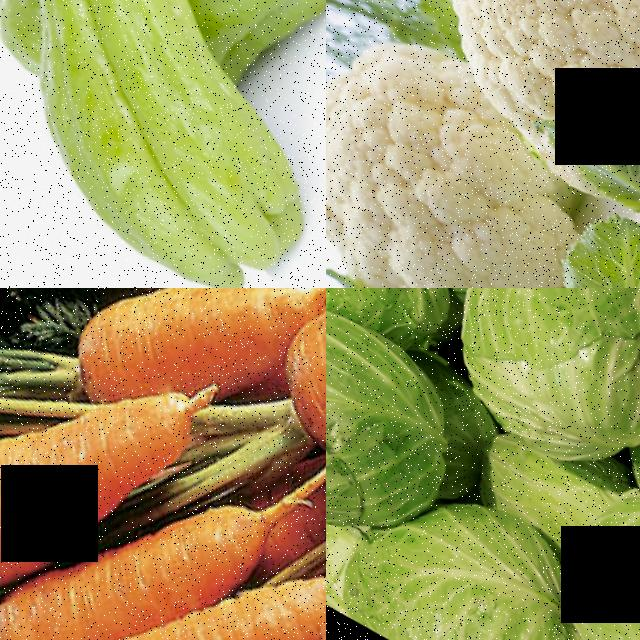cabbage: (394, 288, 640, 486), (326, 451, 578, 640), (326, 288, 466, 571), (499, 423, 640, 640)
carrot: (0, 288, 182, 575), (60, 461, 317, 640), (0, 457, 159, 640), (87, 288, 297, 405), (243, 288, 326, 467)
cauliflower: (326, 24, 620, 288), (393, 0, 640, 242)
chayote: (0, 17, 326, 288)
